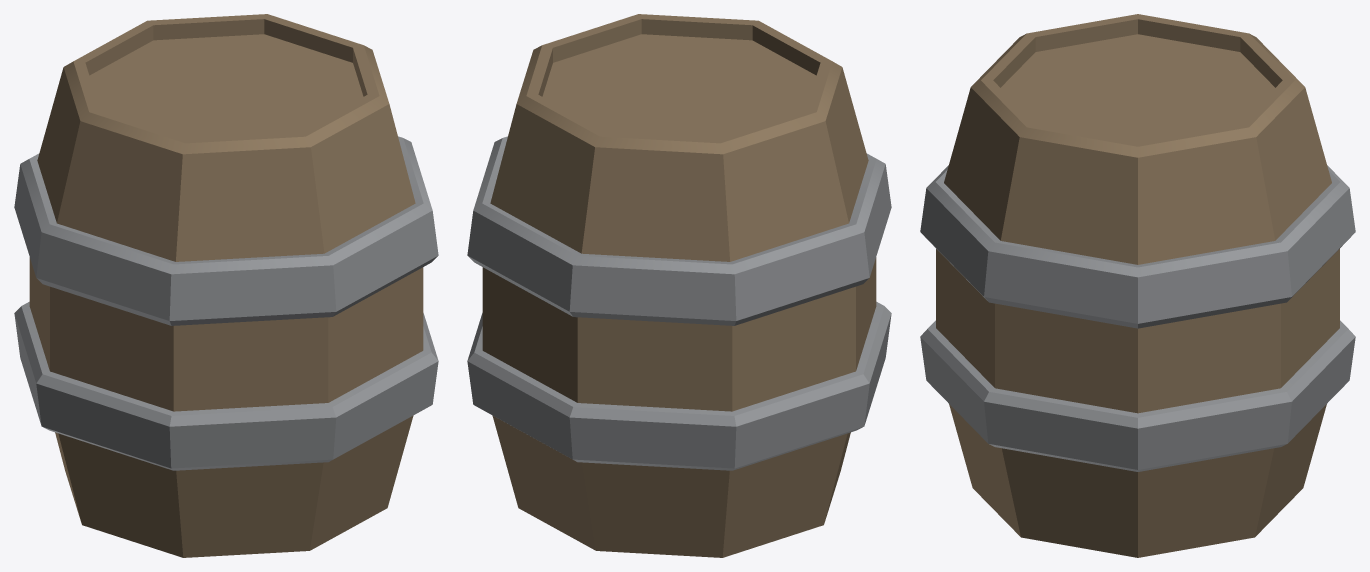
File: LargeBarrel_FBX.fbx
3 renders of one model, left to right at view 1: azimuth 30°, elevation 25°; view 2: azimuth 150°, elevation 25°; view 3: azimuth 270°, elevation 25°, orthographic.
Visible parts, largest first — view 1: pCylinder2; view 2: pCylinder2; view 3: pCylinder2.
Part boxes in pixels (box(x1,y1,x2,y2)): pCylinder2: box(14, 14, 438, 557); pCylinder2: box(467, 14, 891, 557); pCylinder2: box(920, 14, 1355, 557).
Size of the model in its own units: 75.42 by 77.9 by 75.42.
